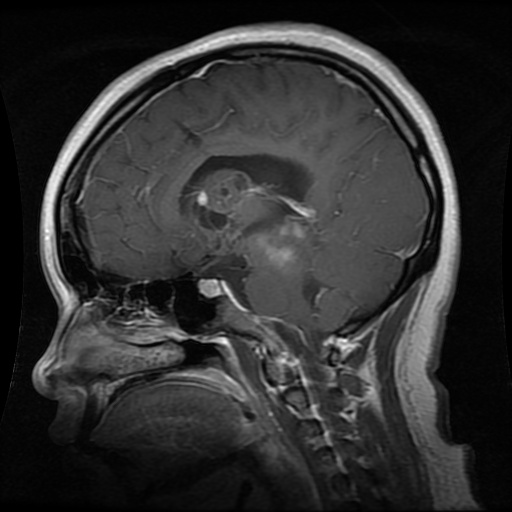glioma: (201, 169, 317, 265)
